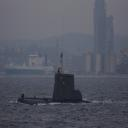submarine: (17, 76, 102, 107)
